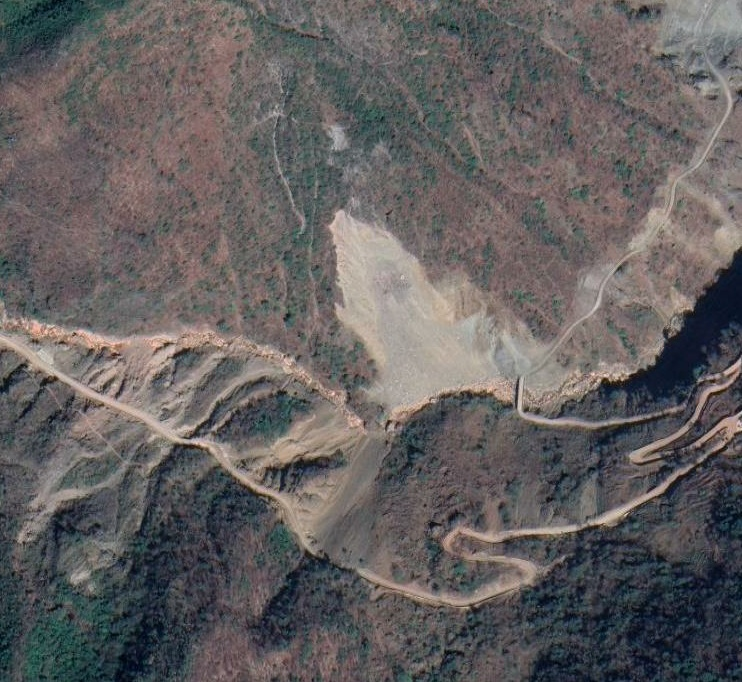slope: (323, 207, 591, 424), (252, 396, 392, 567), (62, 324, 178, 432)
